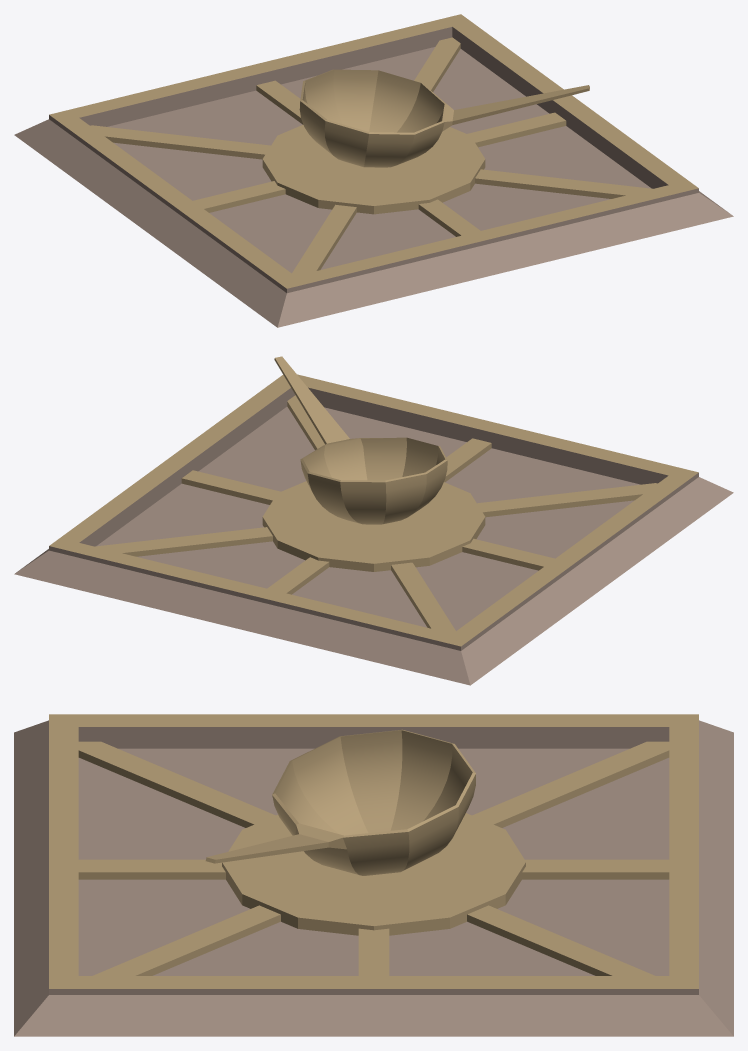
The model's file is Brujula.fbx.
3 renders of one model, top to bottom at view 1: azimuth 30°, elevation 25°; view 2: azimuth 150°, elevation 25°; view 3: azimuth 270°, elevation 25°, orthographic. The views are drawn at different scales.
Parts seen in each view (by area): view 1: C1, pSphere1, pCylinder1, pCube4, pCube5, pCube3, pCube2; view 2: C1, pCylinder1, pSphere1, pCube5, pCube3, pCube4, pCube2; view 3: C1, pSphere1, pCylinder1, pCube4, pCube5, pCube2, pCube3.
Part boxes in pixels (x1,y1,x2,y2): C1: (14,14,733,327); pSphere1: (299,69,589,167); pCylinder1: (262,125,485,214); pCube4: (90,125,652,198); pCube5: (292,37,460,275); pCube3: (193,112,566,212); pCube2: (256,80,480,236); C1: (14,374,733,685); pCylinder1: (262,481,485,571); pSphere1: (274,356,447,524); pCube5: (95,483,657,556); pCube3: (181,470,554,570); pCube4: (287,395,455,633); pCube2: (267,438,491,594); C1: (14,714,733,1036); pSphere1: (205,729,475,875); pCylinder1: (222,813,525,935); pCube4: (93,741,669,975); pCube5: (78,741,654,975); pCube2: (78,859,669,879); pCube3: (358,928,389,975).
Size of the model in its own units: 8.97 by 1.9 by 8.97.
